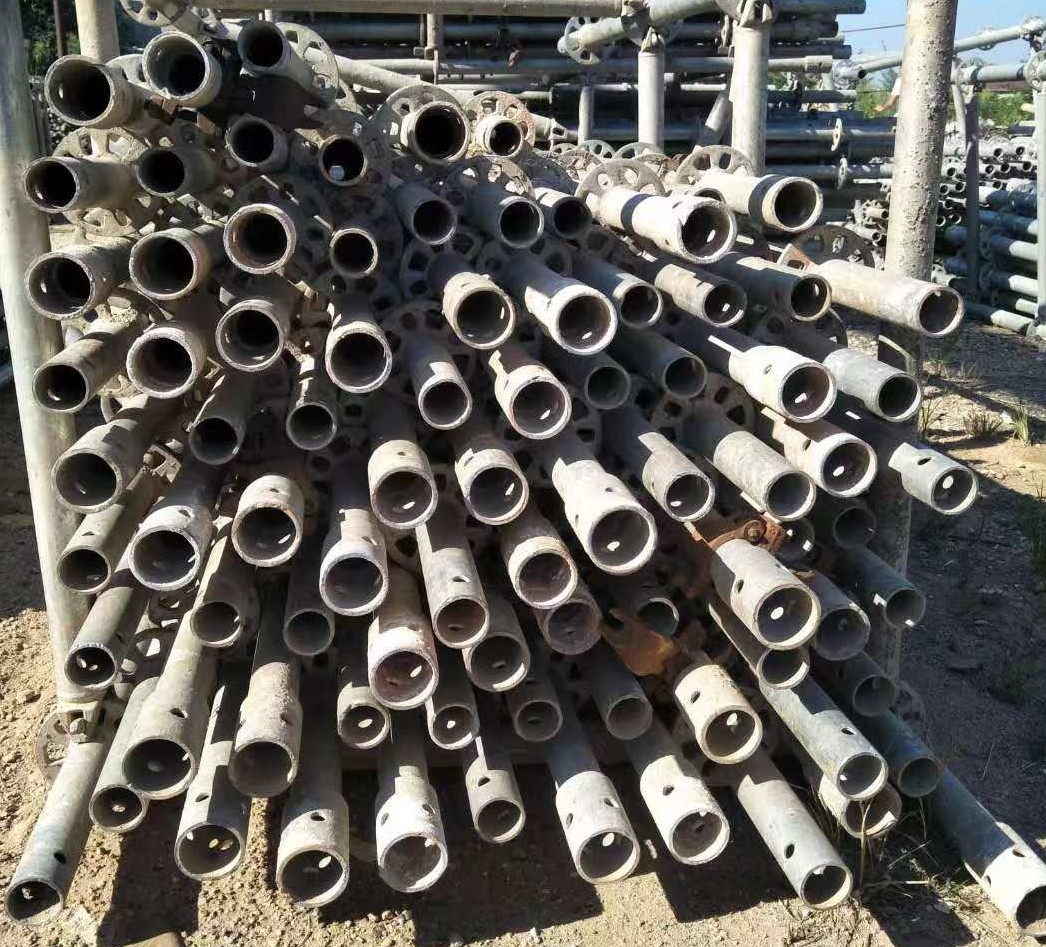circle_steel: (581, 502, 659, 576), (43, 53, 116, 127), (21, 252, 99, 321), (227, 500, 305, 569), (116, 734, 200, 798), (46, 446, 125, 514), (122, 524, 199, 592), (323, 325, 394, 396), (372, 829, 452, 892), (749, 578, 819, 650), (213, 304, 285, 373), (365, 466, 440, 532), (277, 844, 352, 910), (223, 736, 303, 797), (224, 206, 295, 274), (124, 332, 195, 400), (317, 551, 390, 617), (129, 232, 197, 300), (511, 544, 580, 611), (142, 33, 209, 101), (464, 462, 533, 528), (672, 198, 739, 265), (505, 375, 573, 441), (404, 101, 471, 166), (453, 283, 518, 350), (550, 292, 618, 356), (695, 703, 765, 765), (173, 820, 246, 879), (574, 823, 641, 886), (774, 362, 839, 423), (666, 806, 731, 867), (17, 156, 83, 216), (539, 599, 607, 657), (816, 439, 880, 499), (2, 875, 70, 928), (432, 592, 491, 651), (762, 179, 826, 233), (656, 469, 717, 525), (58, 641, 123, 693), (414, 377, 475, 432), (30, 360, 90, 415), (795, 859, 855, 914), (316, 131, 372, 188), (281, 399, 339, 454), (54, 542, 112, 597), (819, 603, 872, 663), (86, 784, 149, 834), (923, 463, 980, 518), (759, 468, 817, 522), (832, 748, 889, 802), (334, 701, 392, 754), (183, 414, 242, 466), (131, 146, 189, 198), (224, 115, 279, 169), (912, 284, 966, 339), (281, 606, 338, 658), (841, 790, 900, 840), (424, 704, 483, 752), (782, 272, 837, 323), (603, 690, 654, 745), (187, 600, 243, 650), (509, 696, 567, 744), (236, 18, 287, 72), (492, 198, 546, 249), (473, 797, 528, 846), (756, 644, 813, 691), (328, 229, 380, 280), (406, 196, 459, 246), (700, 277, 750, 330), (873, 373, 923, 423), (614, 282, 665, 331), (659, 353, 710, 401), (892, 753, 945, 799), (1009, 875, 1046, 940), (585, 362, 632, 413), (881, 586, 930, 634), (830, 504, 879, 551), (773, 512, 818, 562), (547, 192, 592, 241), (850, 671, 896, 718), (634, 598, 683, 641), (485, 116, 527, 160)
